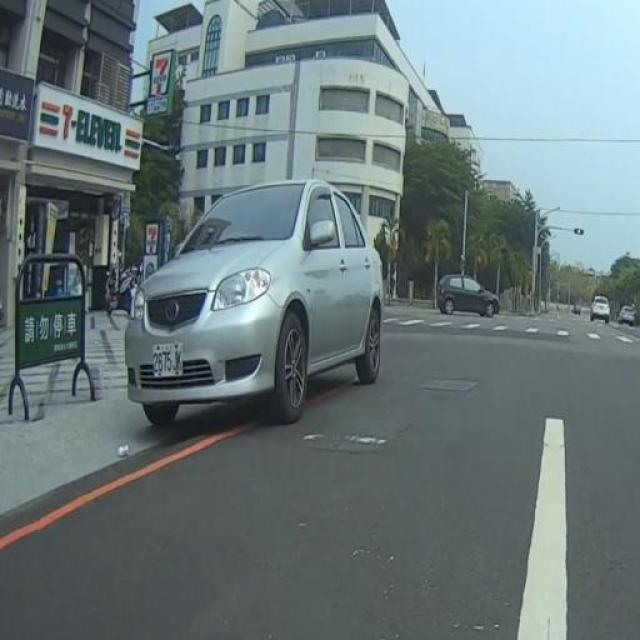illegalparking: (110, 156, 413, 438)
